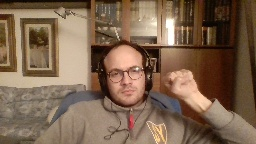Pugno: (161, 66, 199, 101)
